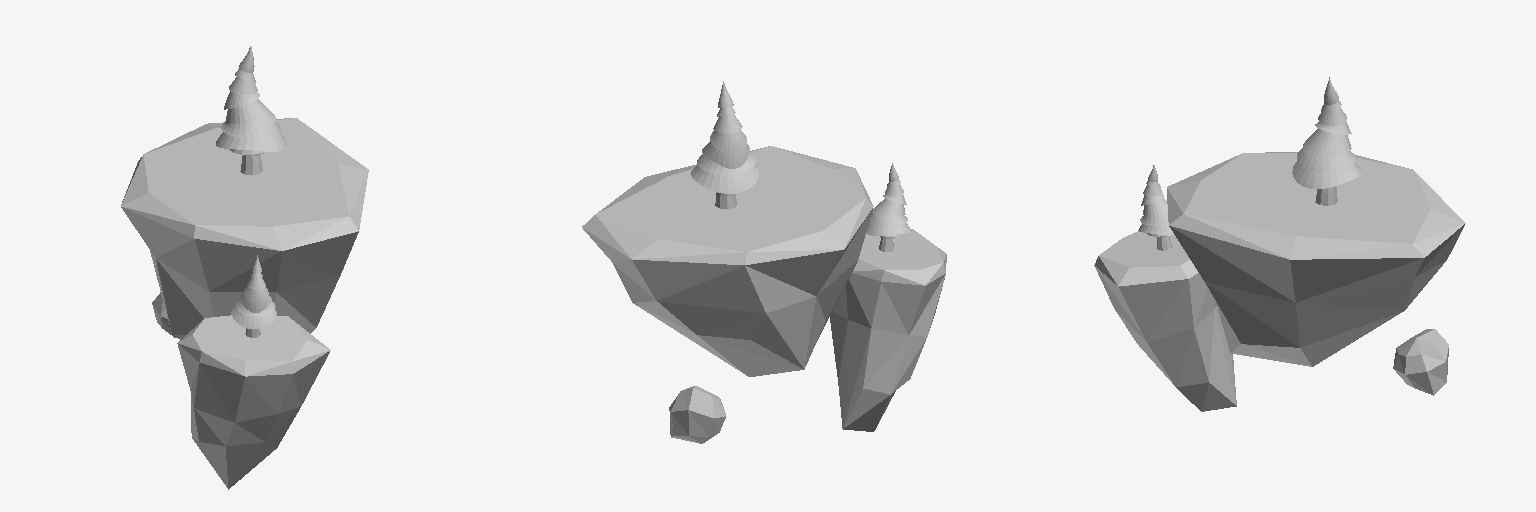
The model's file is Floating_Island_Group_3.obj.
3 renders of one model, left to right at view 1: azimuth 30°, elevation 25°; view 2: azimuth 150°, elevation 25°; view 3: azimuth 270°, elevation 25°, orthographic.
Parts seen in each view (by area): view 1: Box116, Box117, Cone096, Cone098, Cone097, Cone103; view 2: Box116, Box117, Sphere005, Cone096, Cone099, Cone098, Cone097; view 3: Box116, Box117, Sphere005, Cone098, Cone096, Cone097.
Part boxes in pixels (x1,y1,x2,y2): Box116: (121,118,368,339); Box117: (177,315,330,489); Cone096: (216,132,286,151); Cone098: (225,99,275,124); Cone097: (221,122,280,137); Cone103: (231,306,276,328); Box116: (582,146,873,376); Box117: (830,229,946,431); Sphere005: (669,386,725,443); Cone096: (691,165,758,193); Cone099: (710,130,746,155); Cone098: (702,141,749,168); Cone097: (697,152,755,174); Box116: (1167,152,1465,366); Box117: (1094,231,1236,411); Sphere005: (1393,329,1448,395); Cone098: (1303,128,1351,159); Cone096: (1292,162,1362,188); Cone097: (1297,148,1355,172).
Size of the model in its own units: 49.56 by 75.66 by 67.5.